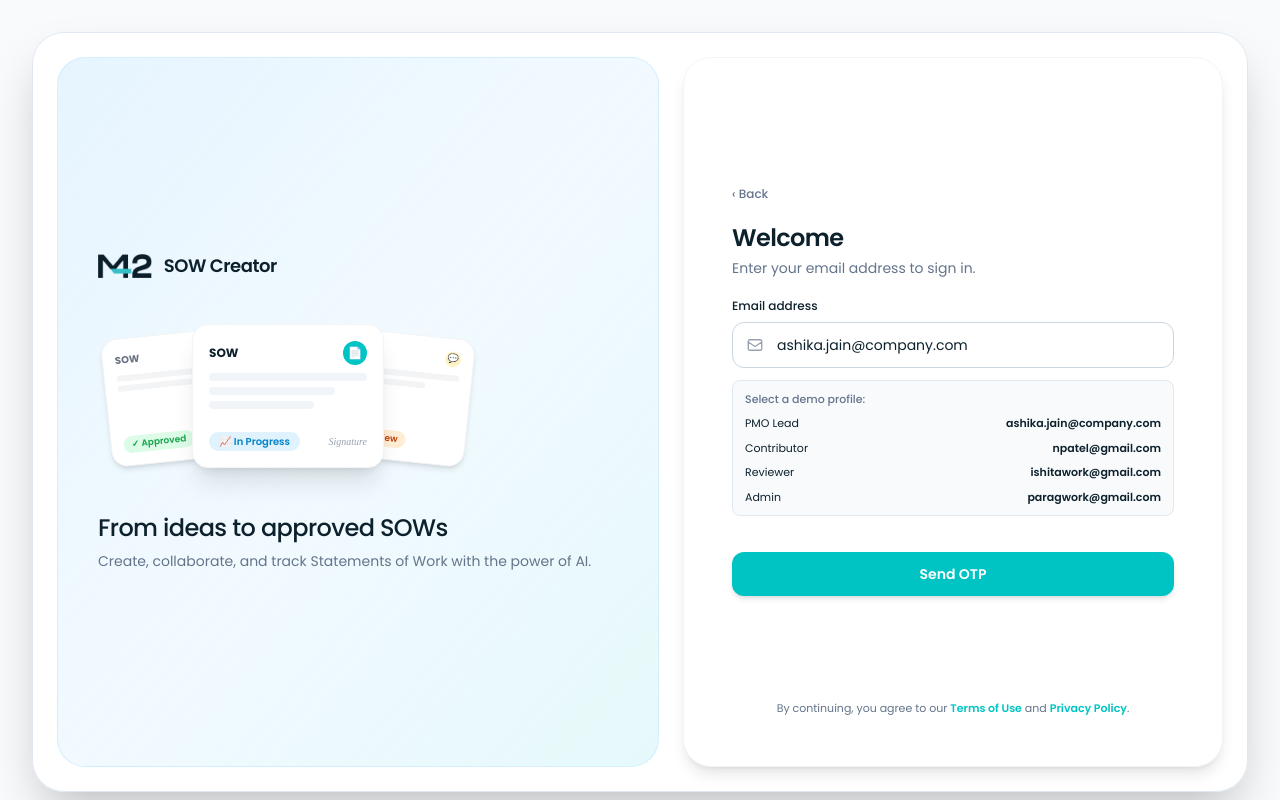
Test: LoginScreen Organism › advances to OTP step when valid registered email is submitted
Click the button "Send OTP" at (953, 574), box [732,552,1174,596]
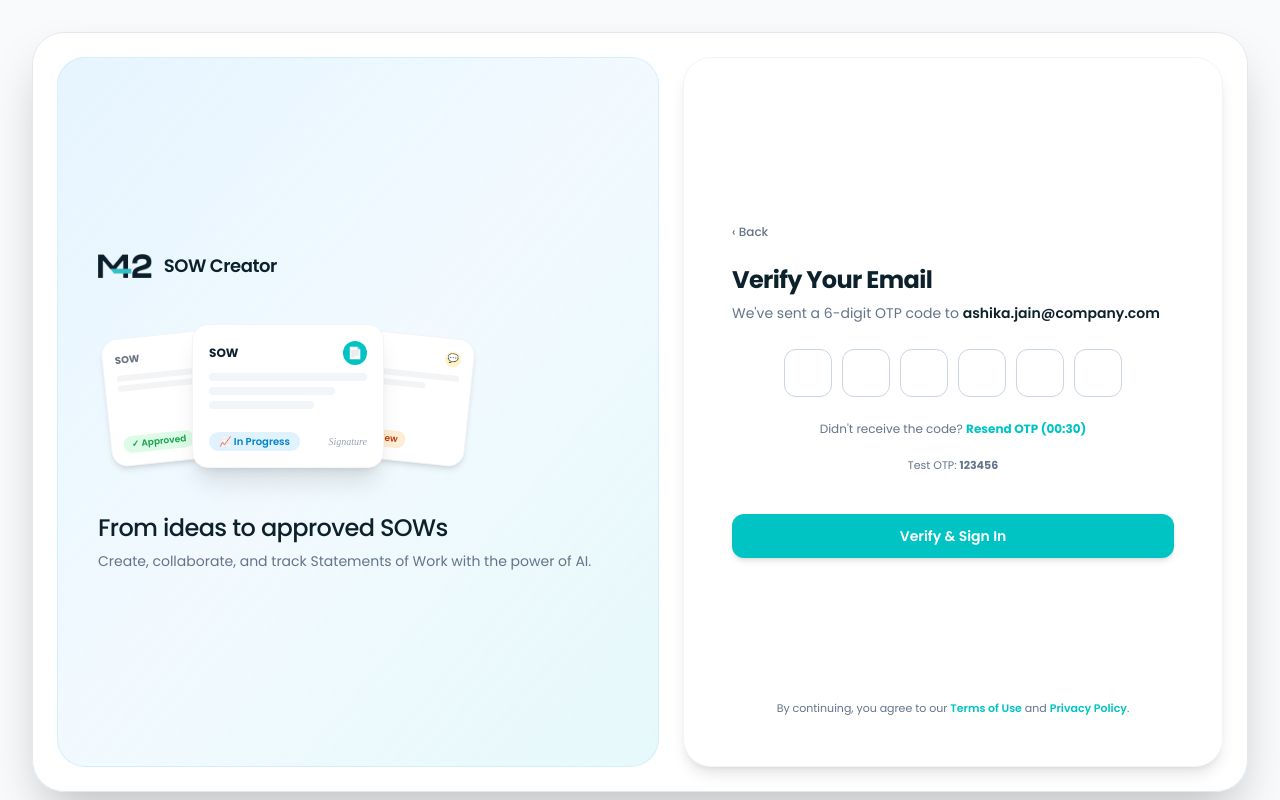
Expected: the text "ashika.jain@company.com" is shown, [963,303,1160,323]
Expected: the heading "Verify Your Email" is shown, [732,263,932,296]
Expected: the button "Verify & Sign In" is shown, [732,514,1174,558]
